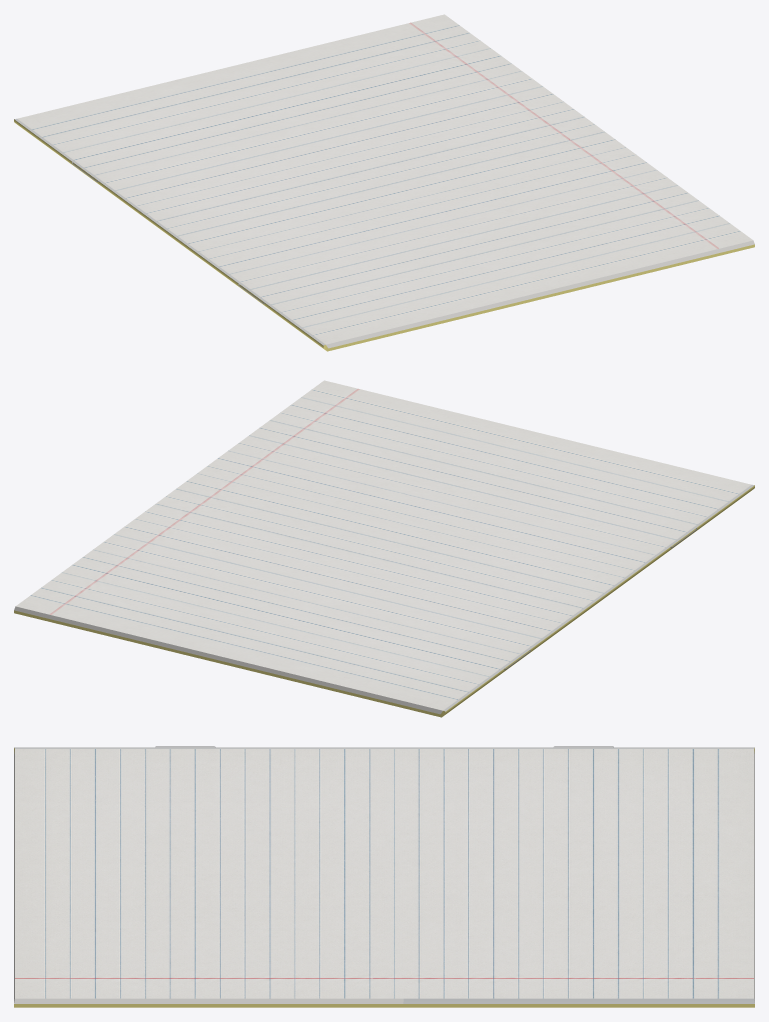
Rendered from Notebook_01.fbx.
The picture shows the model from 3 angles, top to bottom: view 1: azimuth 30°, elevation 25°; view 2: azimuth 150°, elevation 25°; view 3: azimuth 270°, elevation 25°; orthographic projection. The views are drawn at different scales.
Visible parts, largest first — view 1: Notebook_01; view 2: Notebook_01; view 3: Notebook_01.
Boxes of the visible parts, x1=… form: Notebook_01: x1=14, y1=14, x2=754, y2=351; Notebook_01: x1=14, y1=380, x2=754, y2=717; Notebook_01: x1=14, y1=746, x2=754, y2=1007.
Bounding box in the file's own units: 16.77 × 0.2533 × 20.77.
